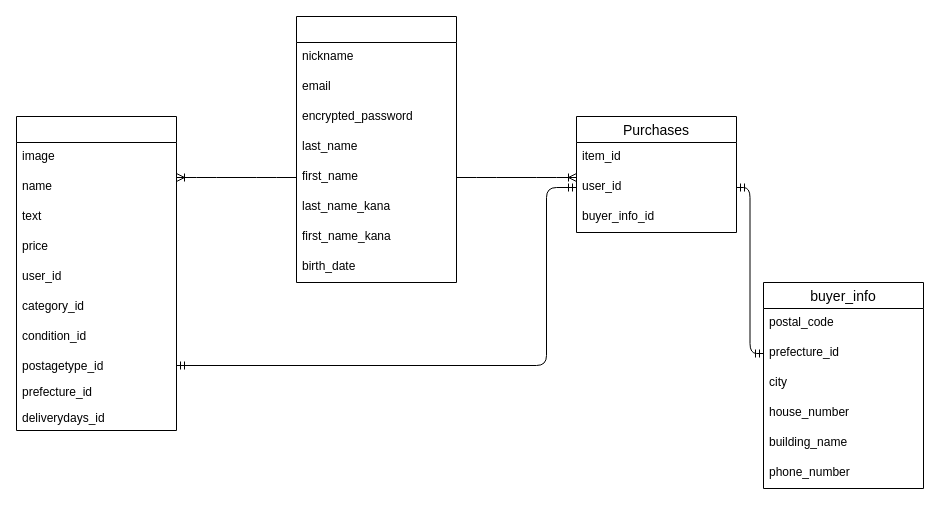
Image size: 940x505. Some labels were removed from this diagram. Each missing label, with the box of its shape:
Items: (16, 116, 176, 430)
Users: (296, 16, 456, 282)
